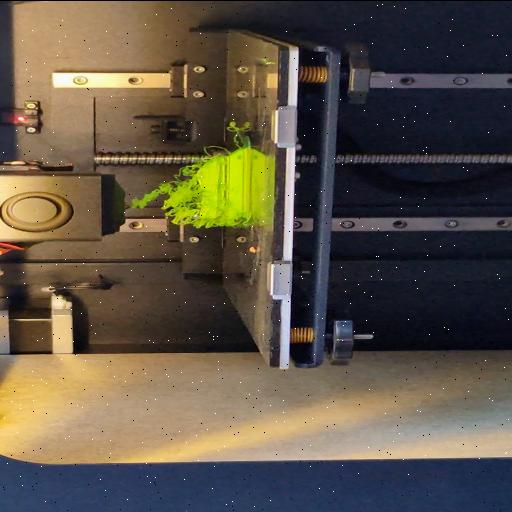spaghetti: (131, 161, 203, 227), (223, 119, 239, 145), (200, 144, 228, 155), (240, 216, 252, 228)
